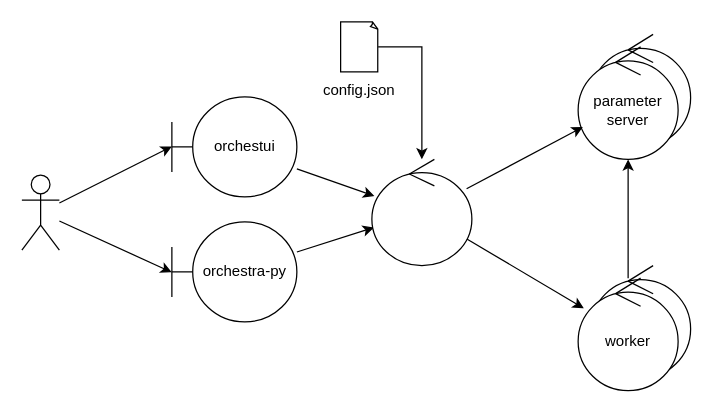
Some shapes in this 713 by 413 pixel diagram are drawn without their labels. The shapes that lost their labels are listed below. From the top down, each one's box as (x1, y1, x2, y2) in pixels, then its label:
(21, 174, 59, 250): User
(371, 158, 472, 266): orchestrator
